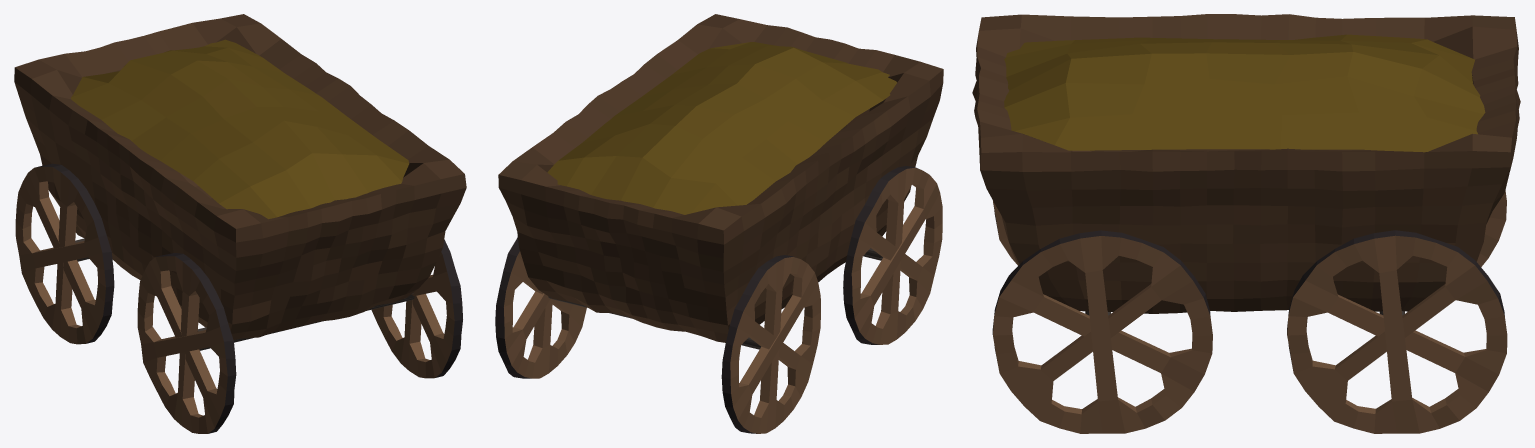
File: Kutsche_Getreide.fbx
3 views of the same model, side by side, from view 1: azimuth 30°, elevation 25°; view 2: azimuth 150°, elevation 25°; view 3: azimuth 270°, elevation 25° (orthographic). The views are drawn at different scales.
Visible parts, largest first — view 1: Cube, Plane, Circle.003, Circle, Circle.002; view 2: Cube, Plane, Circle.003, Circle, Circle.001; view 3: Cube, Plane, Circle.001, Circle.002, Circle.
Boxes of the visible parts, x1,y1,x2,y2 form: Cube: [14, 14, 466, 339]; Plane: [71, 39, 409, 219]; Circle.003: [137, 253, 236, 433]; Circle: [15, 163, 114, 344]; Circle.002: [371, 239, 462, 378]; Cube: [498, 14, 943, 342]; Plane: [547, 42, 896, 214]; Circle.003: [843, 166, 942, 344]; Circle: [721, 255, 820, 433]; Circle.001: [495, 237, 586, 378]; Cube: [972, 14, 1520, 313]; Plane: [1004, 34, 1485, 152]; Circle.001: [1287, 230, 1507, 433]; Circle.002: [992, 230, 1212, 433]; Circle: [1477, 190, 1506, 266].
Size of the model in its own units: 486 by 507 by 800.
